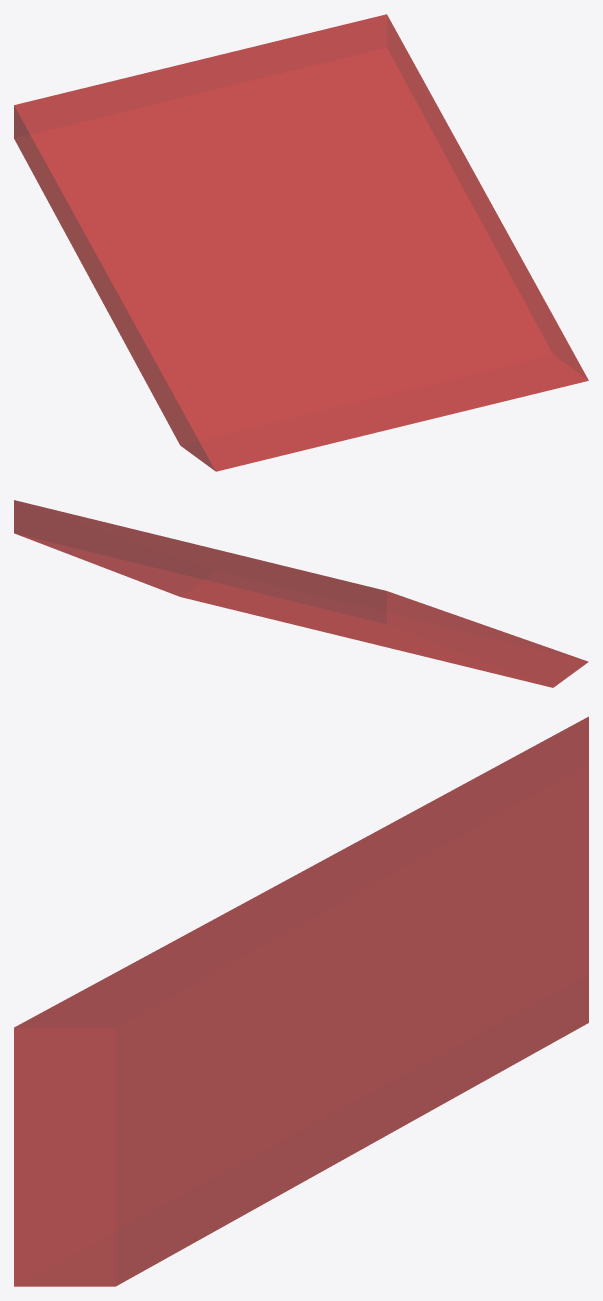
File: SM_Bld_Step_01_Insert_01_Collision.fbx
The picture shows the model from 3 angles, top to bottom: view 1: azimuth 30°, elevation 25°; view 2: azimuth 150°, elevation 25°; view 3: azimuth 270°, elevation 25°; orthographic projection. The views are drawn at different scales.
Visible parts, largest first — view 1: SM_Bld_Step_01_Insert_01_Collision; view 2: SM_Bld_Step_01_Insert_01_Collision; view 3: SM_Bld_Step_01_Insert_01_Collision.
Part boxes in pixels (box(x1,y1,x2,y2)): SM_Bld_Step_01_Insert_01_Collision: box(14, 14, 588, 471); SM_Bld_Step_01_Insert_01_Collision: box(14, 500, 588, 687); SM_Bld_Step_01_Insert_01_Collision: box(14, 716, 588, 1286).
Bounding box in the file's own units: 250 × 140 × 235.
